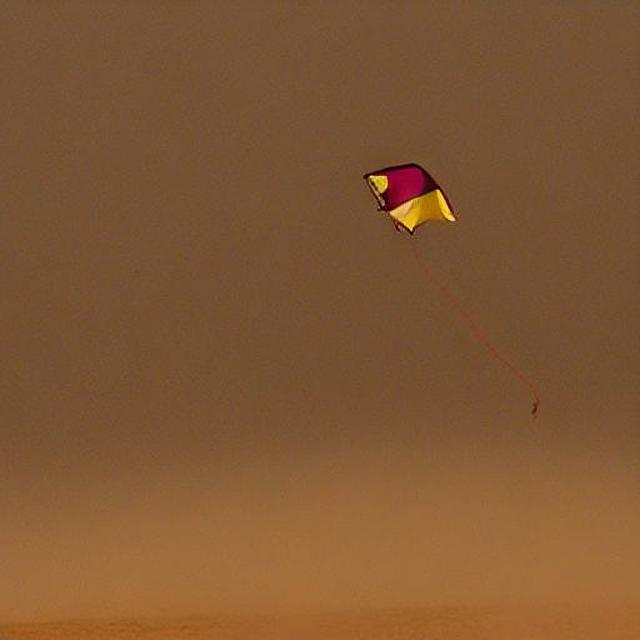floating object: (362, 162, 458, 238)
